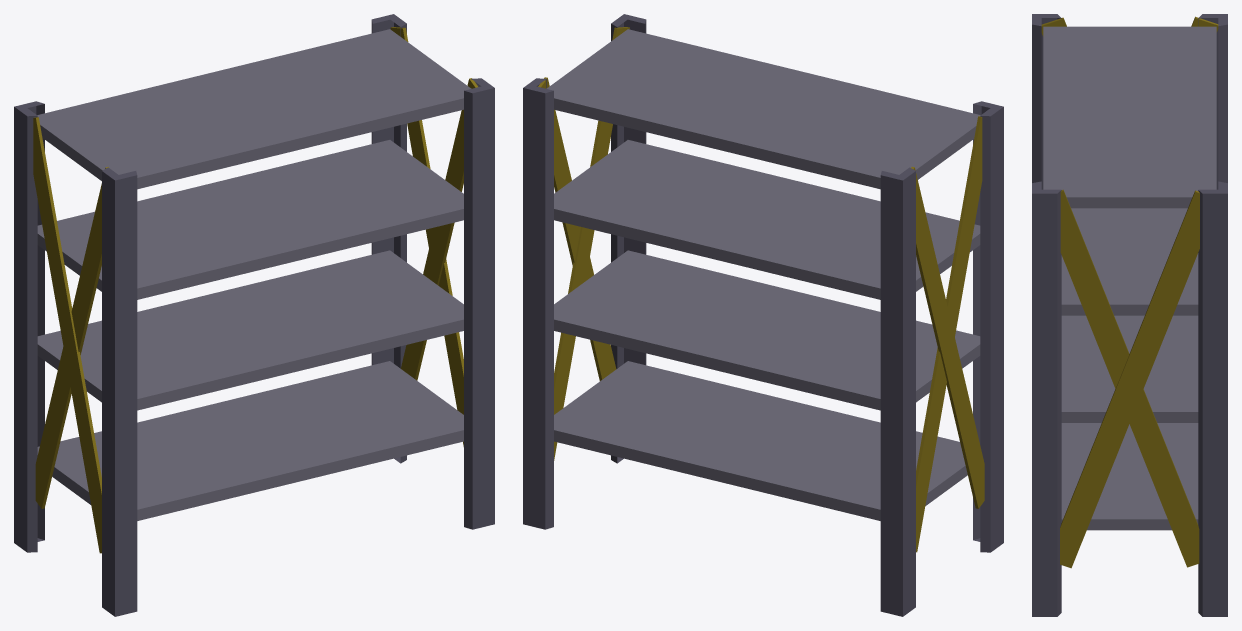
The model's file is ShelfStorage2.fbx.
3 views of the same model, side by side, from view 1: azimuth 30°, elevation 25°; view 2: azimuth 150°, elevation 25°; view 3: azimuth 270°, elevation 25° (orthographic). The views are drawn at different scales.
Parts seen in each view (by area): view 1: ShelfStorage2; view 2: ShelfStorage2; view 3: ShelfStorage2.
Boxes of the visible parts, <box> form: ShelfStorage2: <box>14,14,494,616</box>; ShelfStorage2: <box>523,14,1003,616</box>; ShelfStorage2: <box>1032,14,1227,616</box>.
Size of the model in its own units: 98.59 by 108 by 45.41.
